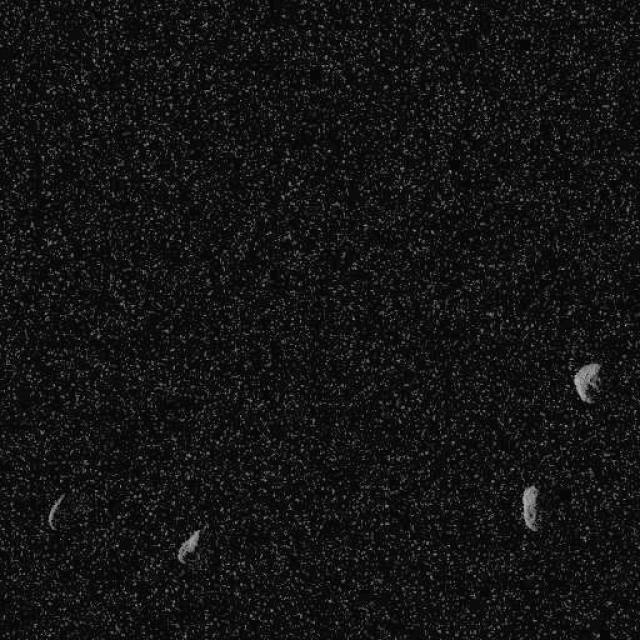D2: (572, 361, 602, 404), (175, 528, 201, 564), (520, 484, 539, 531), (46, 490, 66, 530)
